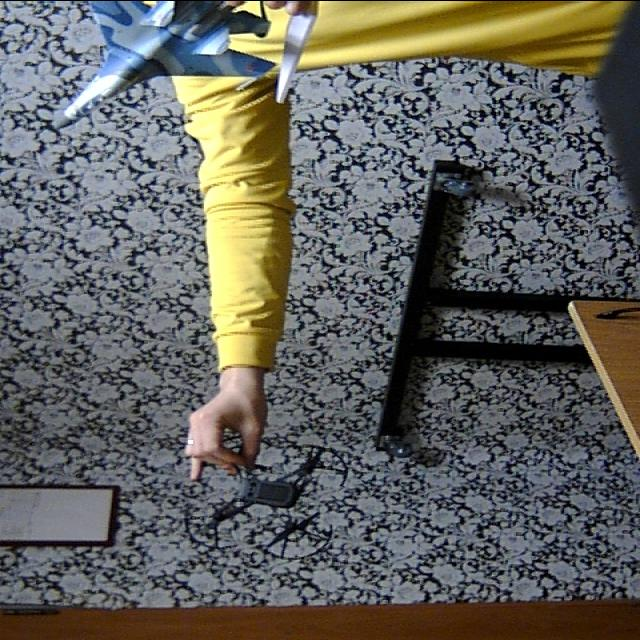drone: (172, 439, 362, 562)
